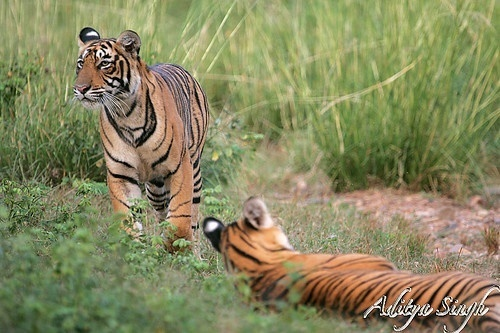tigre: (202, 196, 499, 327), (67, 25, 207, 264)
